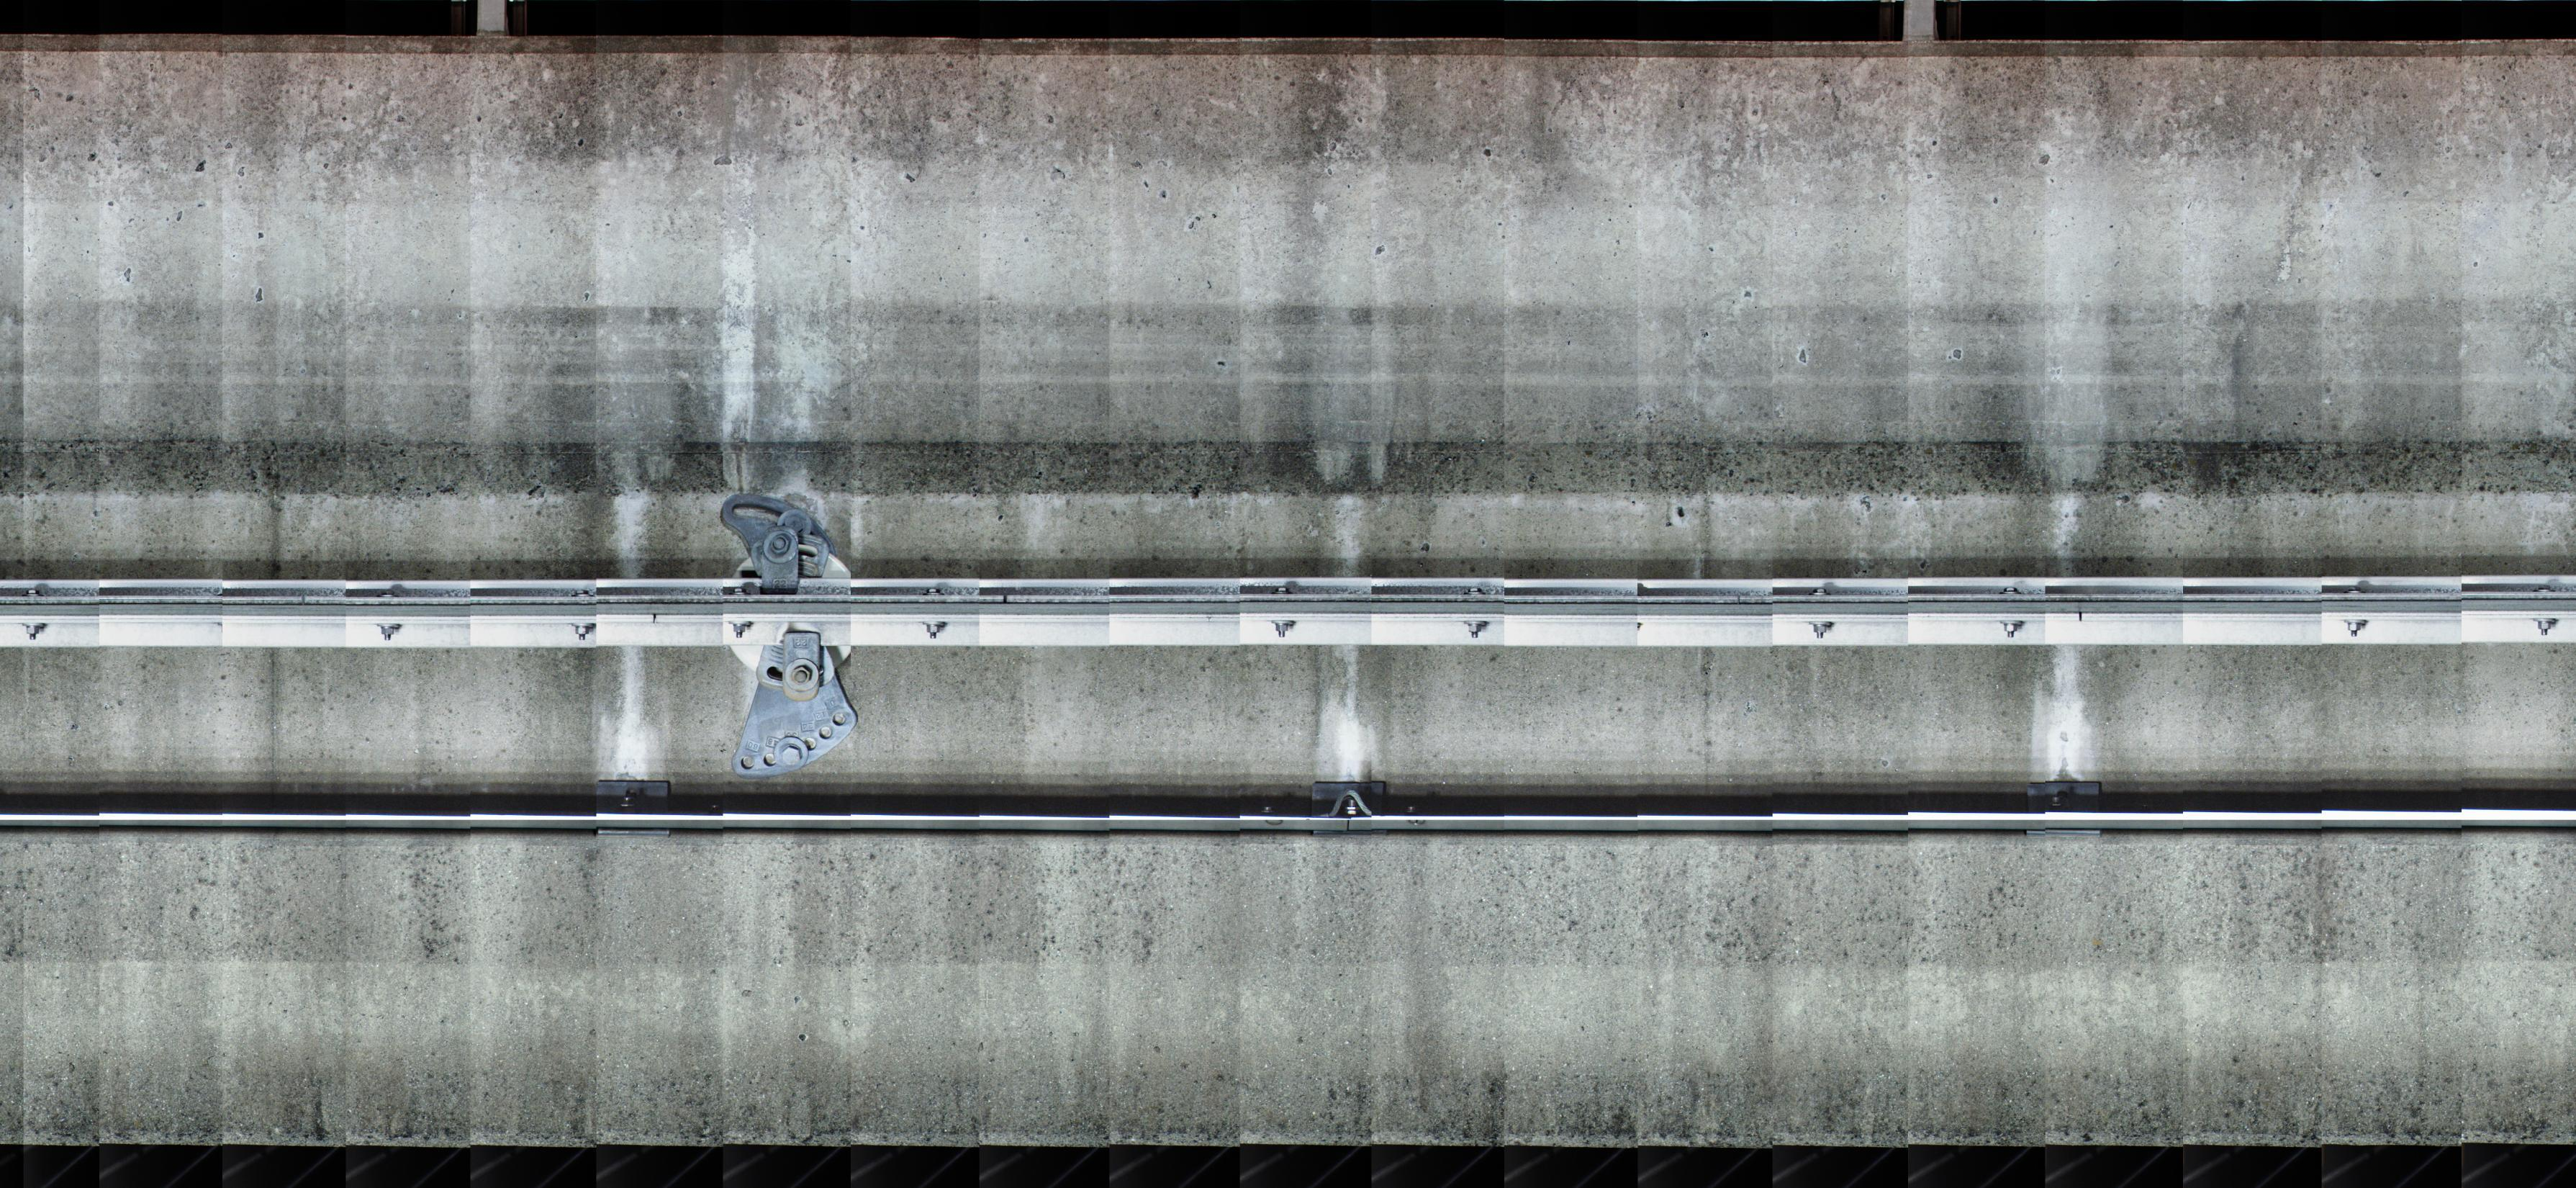concrete: (0, 30, 2561, 565), (3, 647, 2569, 1145)
